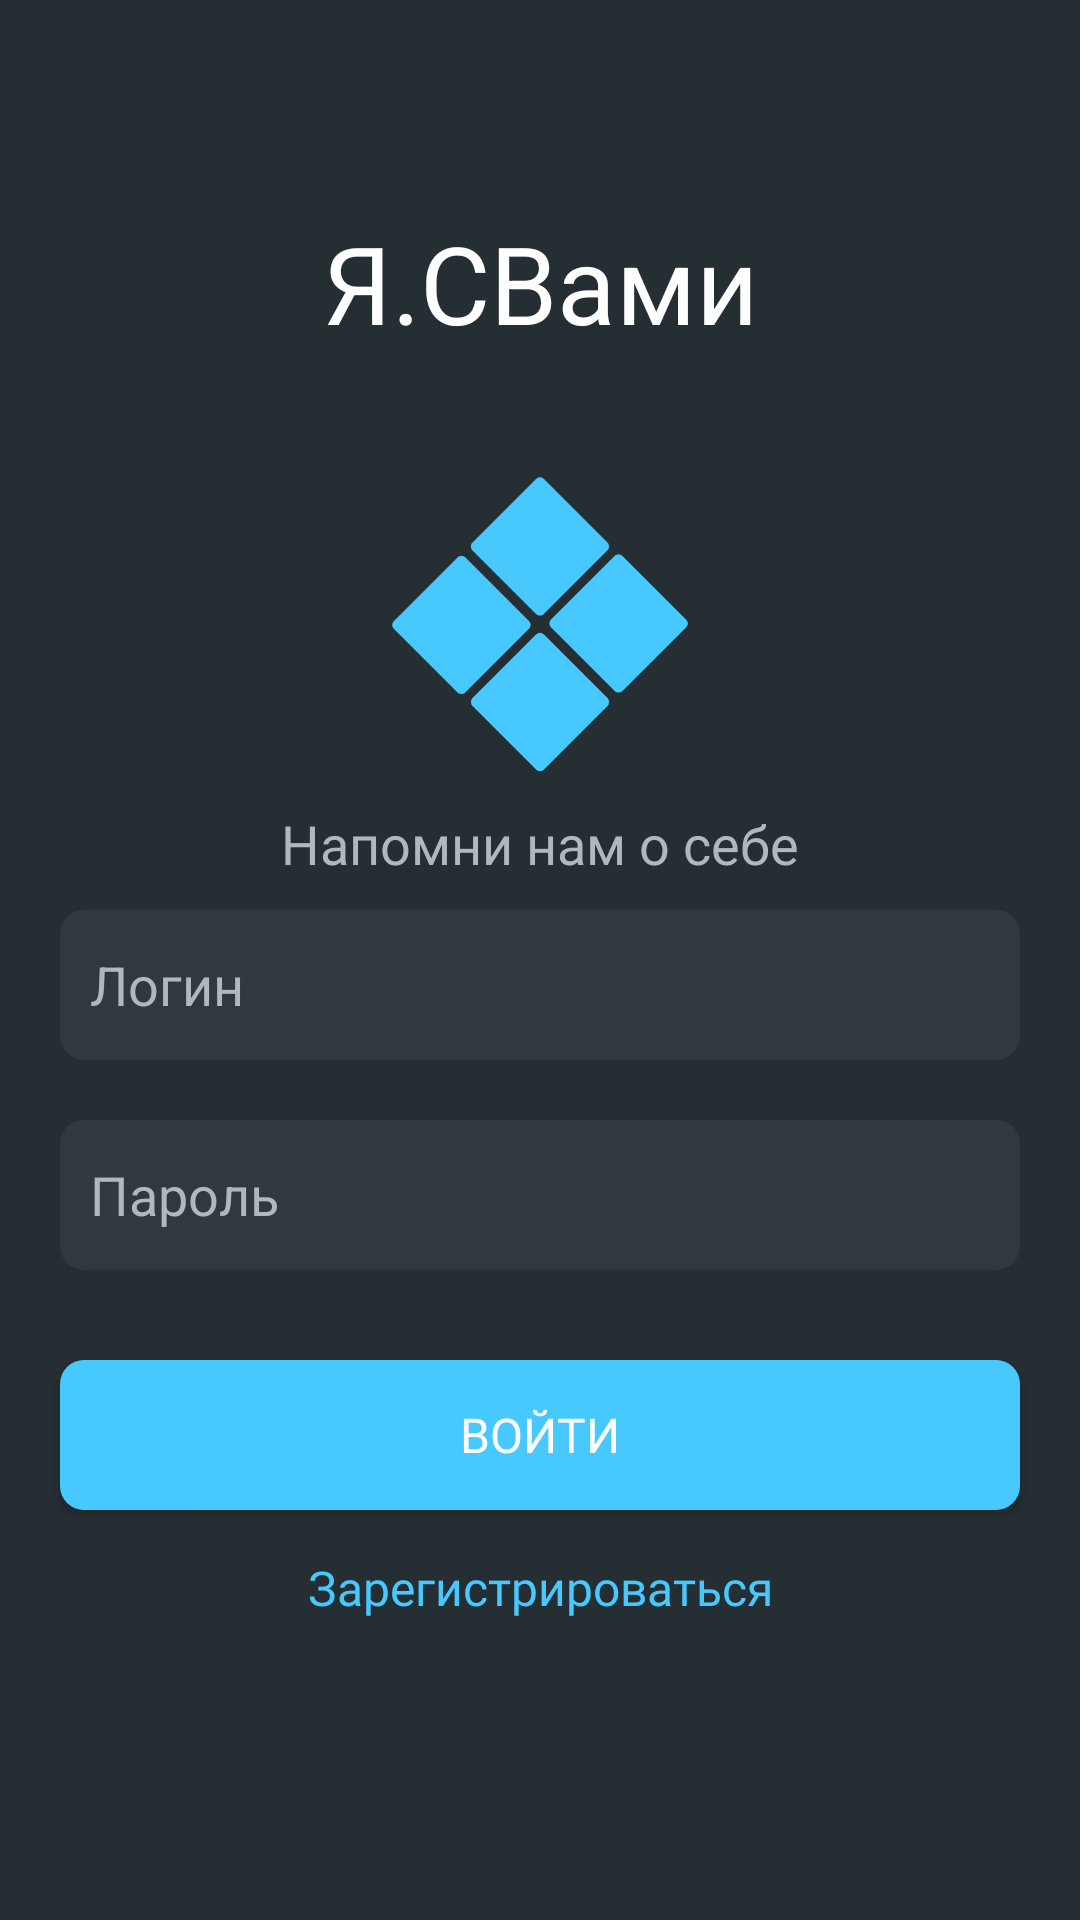

Named icons in this screenshot (1080 x 1920) and their bounding boxes, bbox=[x1, y1, x2, y2]:
app: bbox=[392, 477, 688, 772]
